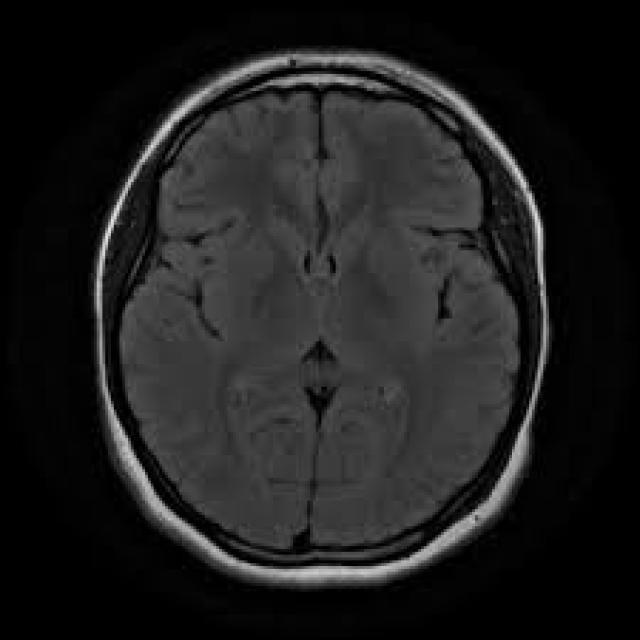No_Tumor: (92, 50, 549, 585)
